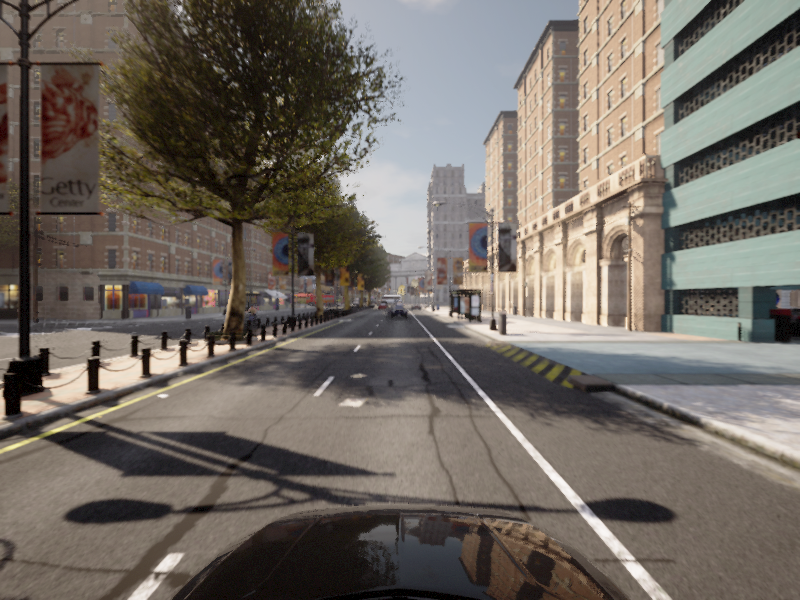vehicle: (1, 345, 31, 599), (242, 304, 260, 326), (226, 304, 246, 321), (386, 305, 407, 318)
